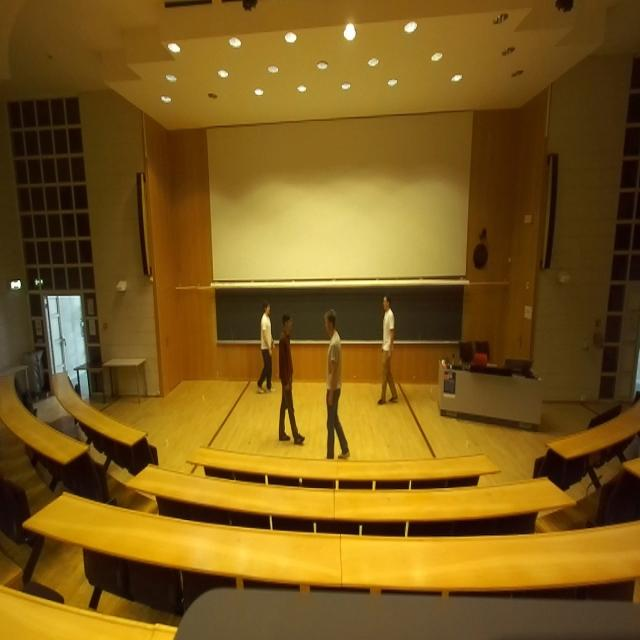person: (324, 308, 350, 458), (278, 313, 305, 443), (377, 294, 398, 404), (257, 301, 275, 393)
